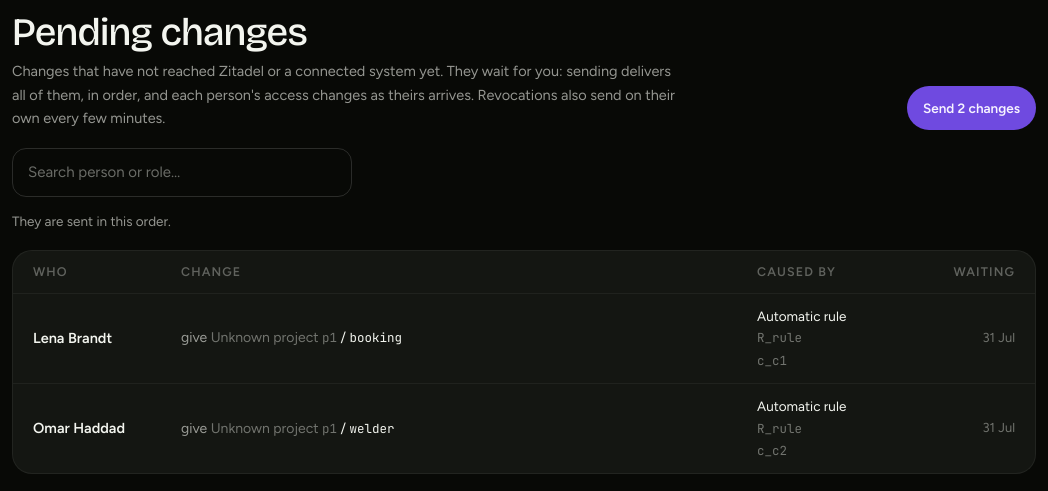
Test: Pending changes · board layout › search › narrows by person, and says sending still sends all of them
Type "omar" into the field named "Search pending changes".
click(182, 173); type("omar")  # box [12,148,352,197]
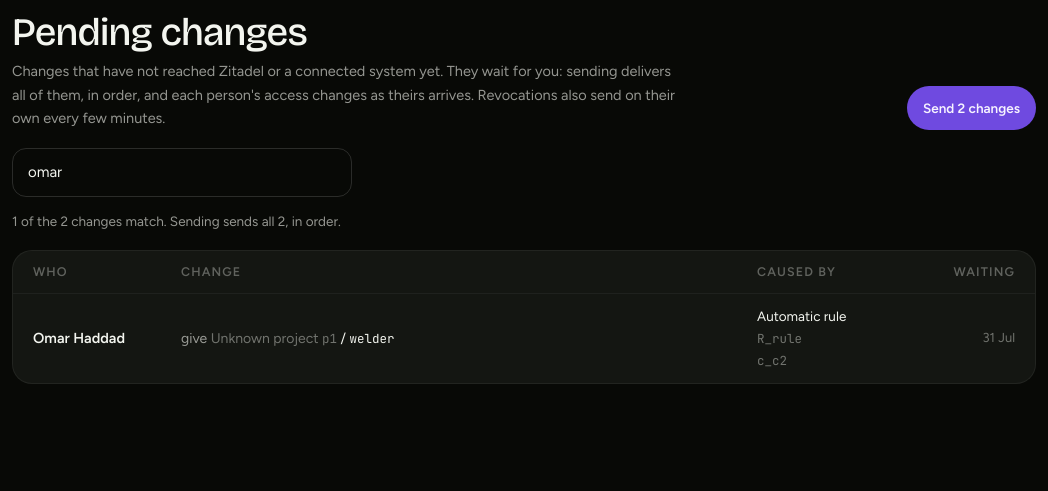
Expected: the text "Omar Haddad" is shown, [33,329,125,347]
Expected: the text "Lena Brandt" is gone
Expected: the text "1 of the 2 changes match. Sending sends all 2, in order." is shown, [12,213,341,229]
